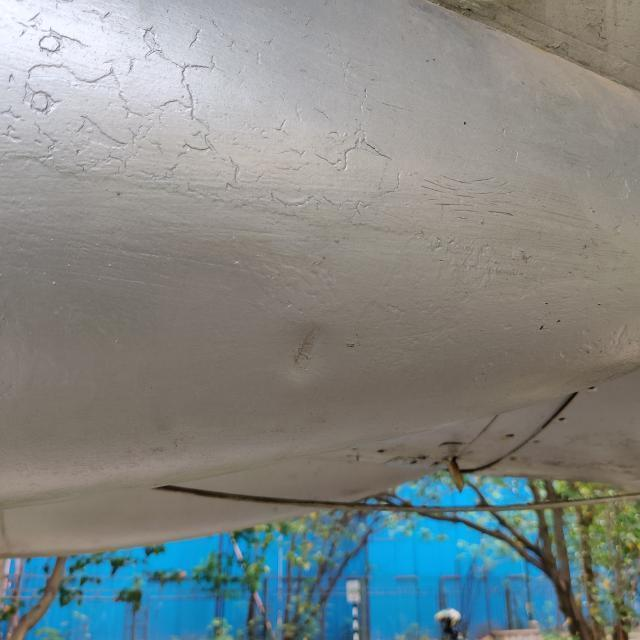Dent: (264, 306, 346, 386)
